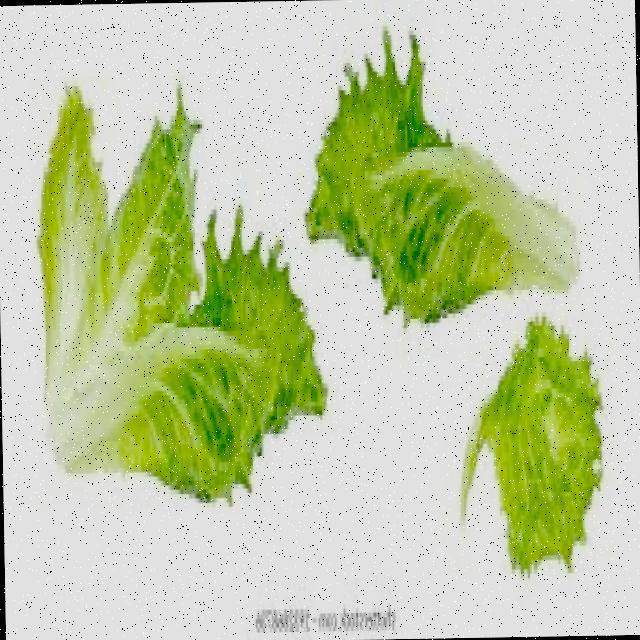healthy: (35, 172, 300, 498), (337, 92, 567, 306), (477, 321, 608, 589)
